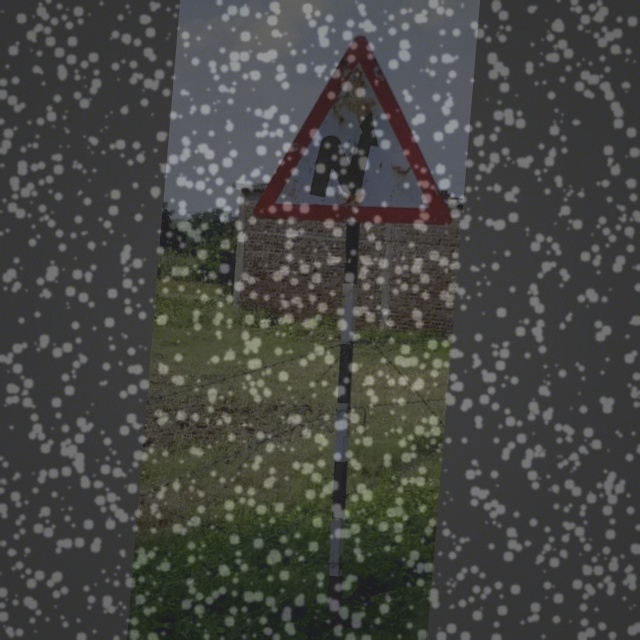Right_Reverse_Bend: (256, 28, 467, 230)
